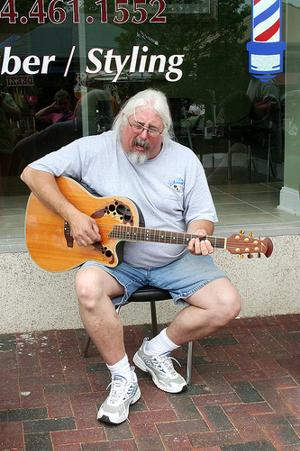person: (21, 89, 242, 426)
